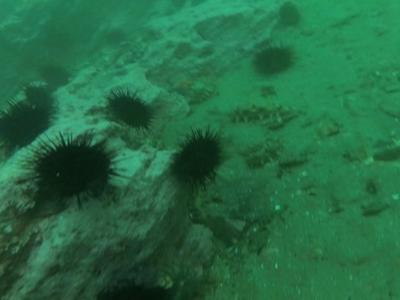holothurian: (224, 99, 292, 126)
urchin: (22, 130, 113, 208), (173, 125, 221, 193), (106, 86, 159, 138), (4, 97, 53, 150), (95, 273, 175, 296), (23, 82, 62, 117), (252, 43, 289, 76)
